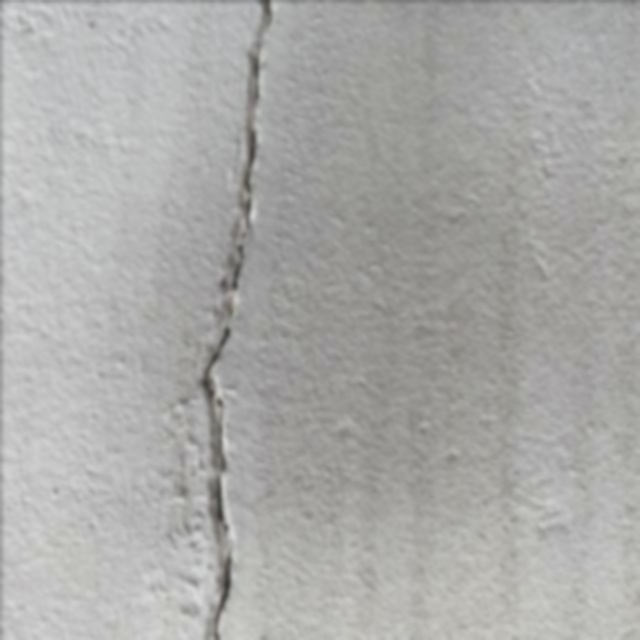SurfaceCrack: (158, 0, 321, 640)
